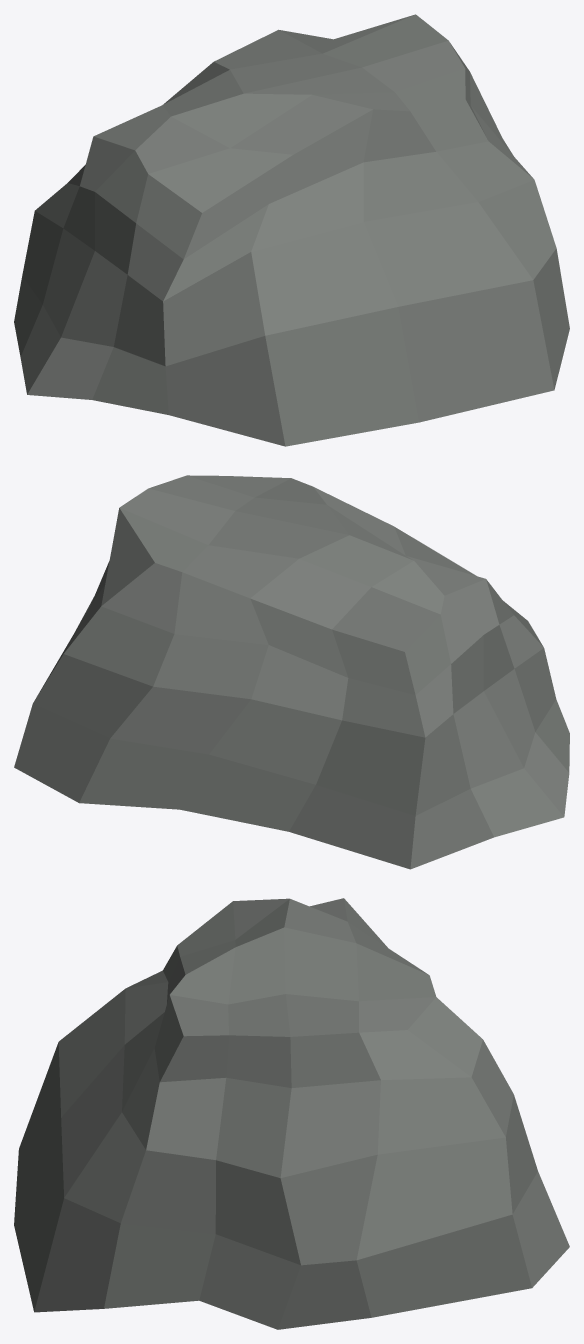
File: Rock_01.fbx
3 views of the same model, one above another, from view 1: azimuth 30°, elevation 25°; view 2: azimuth 150°, elevation 25°; view 3: azimuth 270°, elevation 25° (orthographic). The views are drawn at different scales.
Parts seen in each view (by area): view 1: Rock_01; view 2: Rock_01; view 3: Rock_01.
Boxes of the visible parts, x1,y1,x2,y2 form: Rock_01: [14, 14, 569, 446]; Rock_01: [14, 475, 569, 869]; Rock_01: [14, 898, 569, 1329].
Size of the model in its own units: 437 by 224 by 394.
